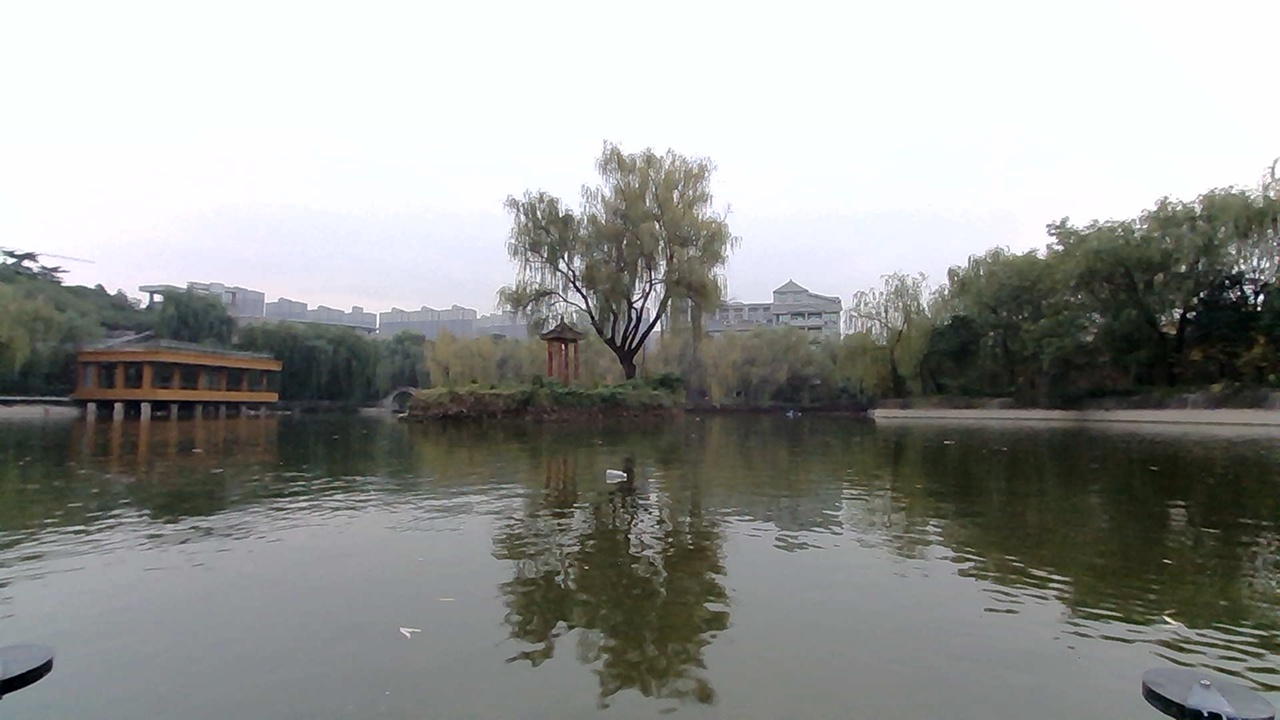bottle: (602, 449, 666, 482)
